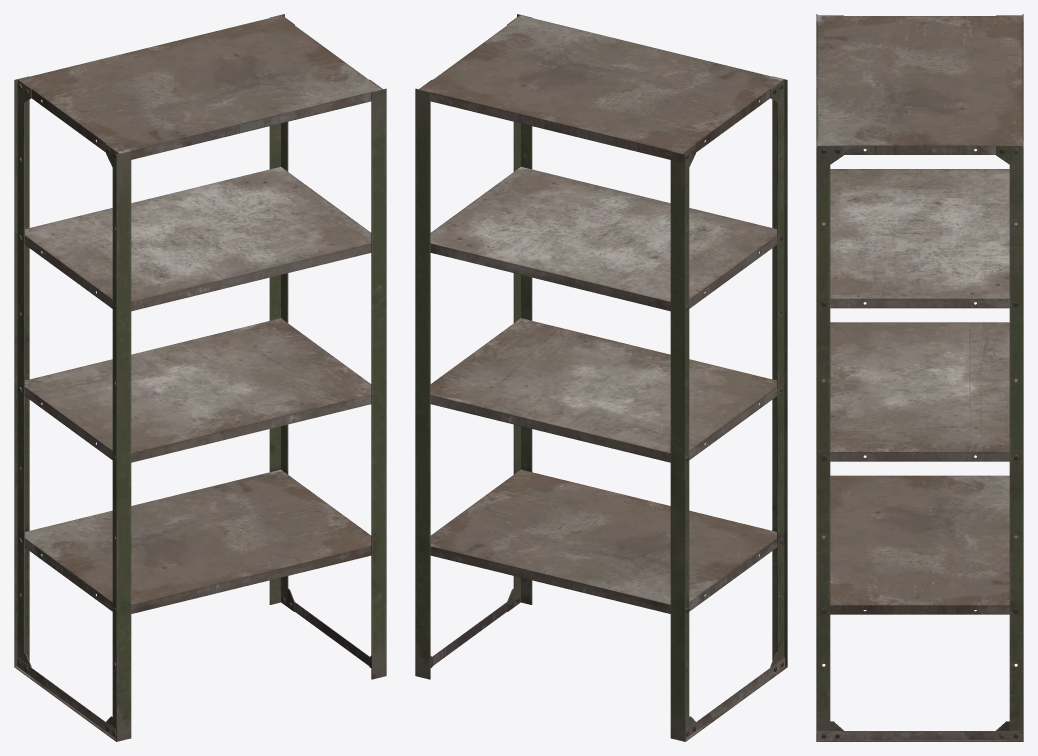
The model's file is worn_metal_rack.glb.
3 views of the same model, side by side, from view 1: azimuth 30°, elevation 25°; view 2: azimuth 150°, elevation 25°; view 3: azimuth 270°, elevation 25° (orthographic).
Visible parts, largest first — view 1: worn_metal_rack; view 2: worn_metal_rack; view 3: worn_metal_rack.
Boxes of the visible parts, x1,y1,x2,y2 form: worn_metal_rack: [14, 14, 386, 741]; worn_metal_rack: [415, 14, 787, 741]; worn_metal_rack: [816, 14, 1023, 741].
Bounding box in the file's own units: 0.9154 × 1.9 × 0.6.
1 material, 1 textured.
